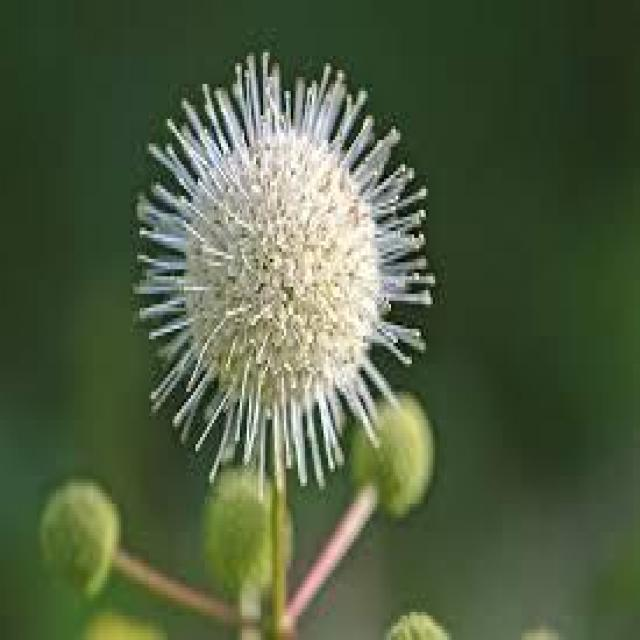organic waste: (134, 65, 436, 484)
